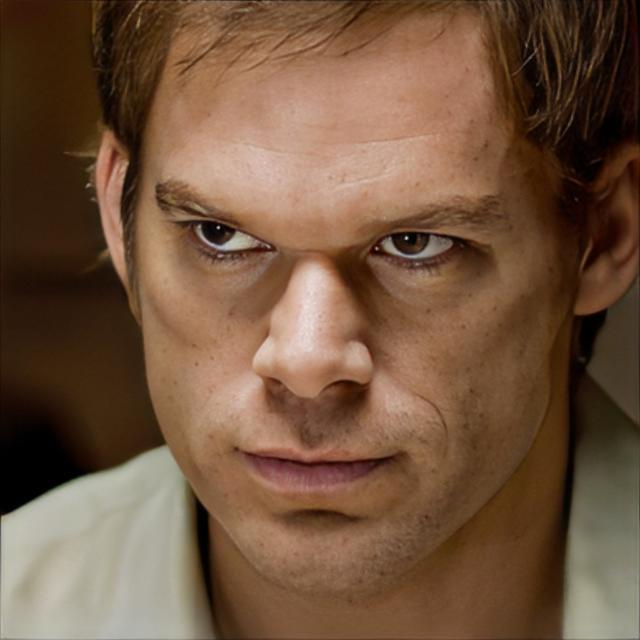anger: (137, 50, 552, 596)
